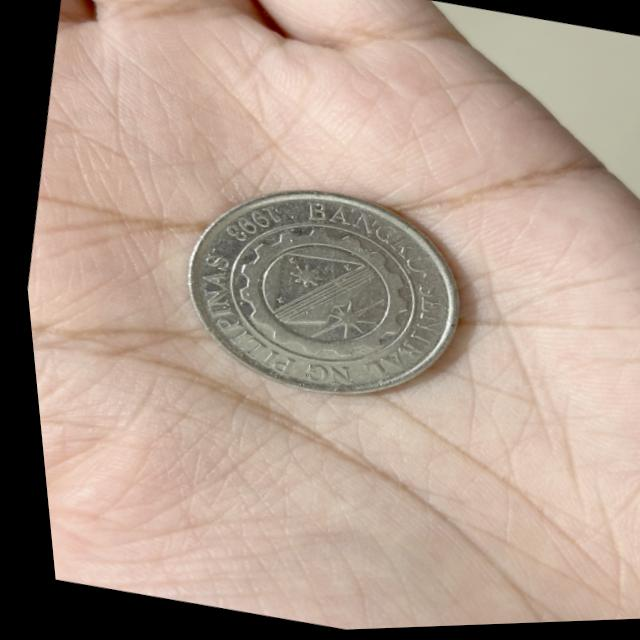1_Old_Back: (200, 201, 428, 389)
